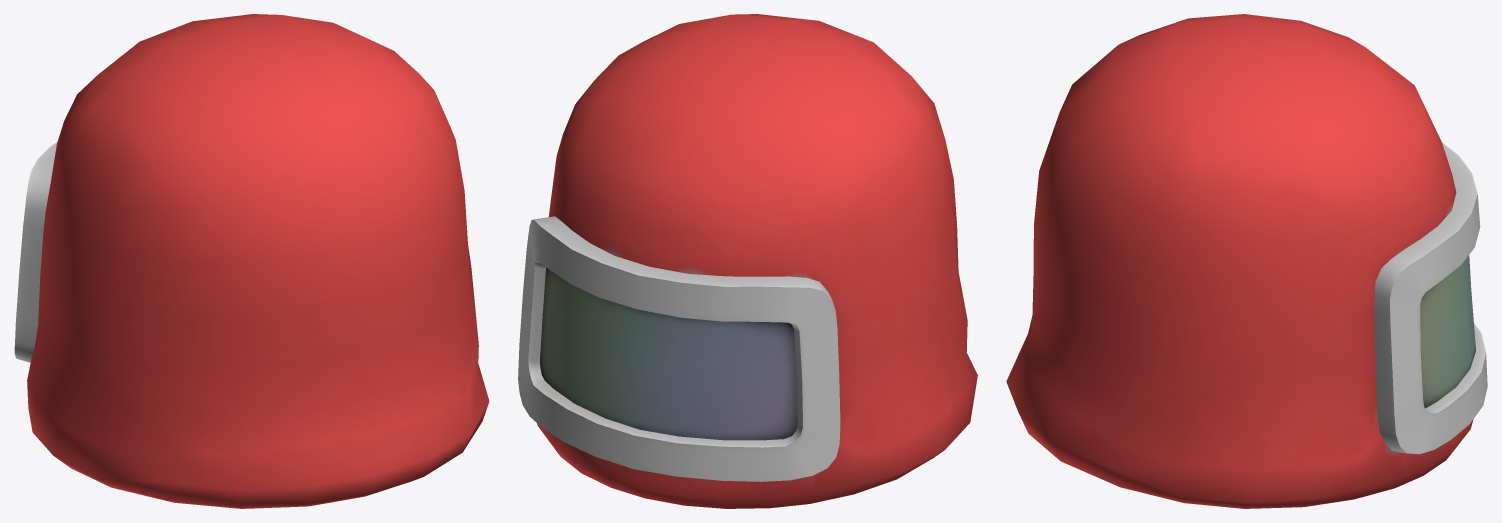
File: IG_Helmat_FireProtect.fbx
3 renders of one model, left to right at view 1: azimuth 30°, elevation 25°; view 2: azimuth 150°, elevation 25°; view 3: azimuth 270°, elevation 25°, orthographic. The views are drawn at different scales.
Parts seen in each view (by area): view 1: JLAB_ProtectiveClothes_Head; view 2: JLAB_ProtectiveClothes_Head; view 3: JLAB_ProtectiveClothes_Head.
Boxes of the visible parts, x1,y1,x2,y2 form: JLAB_ProtectiveClothes_Head: [14, 14, 489, 508]; JLAB_ProtectiveClothes_Head: [518, 14, 977, 508]; JLAB_ProtectiveClothes_Head: [1006, 14, 1487, 508].
Size of the model in its own units: 0.6252 by 0.5793 by 0.6588.
Materials: 1 (1 with a texture image).
